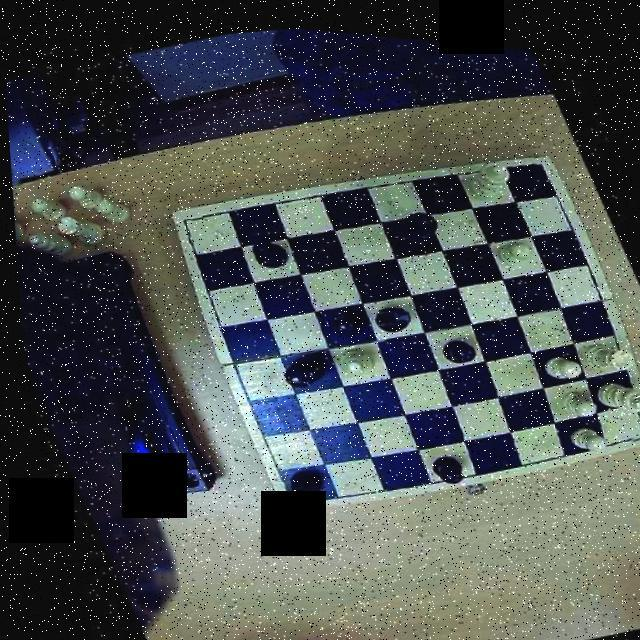chess-table-corners: (167, 202, 209, 244), (268, 469, 306, 510), (516, 140, 554, 178), (615, 402, 640, 437)
